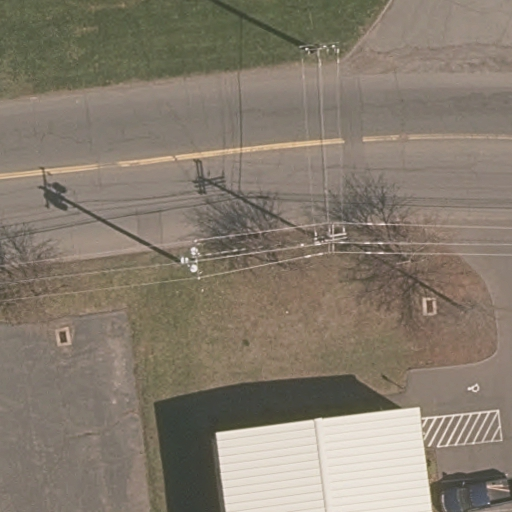DT: (293, 214, 356, 260), (173, 232, 215, 288), (293, 29, 347, 69)
